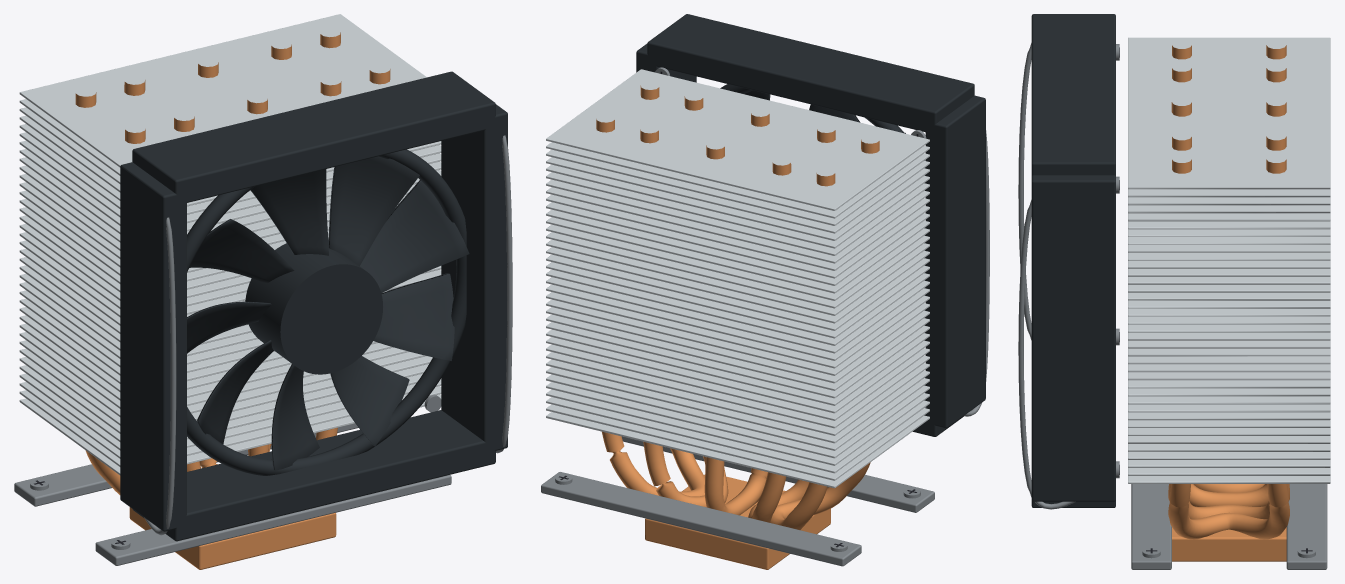
Rendered from cpu-cooler.glb.
3 views of the same model, side by side, from view 1: azimuth 30°, elevation 25°; view 2: azimuth 150°, elevation 25°; view 3: azimuth 270°, elevation 25° (orthographic). The views are drawn at different scales.
Visible parts, largest first — view 1: Fan frame (×4), Swept aerodynamic fan blade (×9), Aluminium fin 37, Fan motor, Fan circular shroud, Spring mounting crossbar (×2), Fan spring retention clip (×2), CPU contact plate, Continuous copper U heat pipe (×3), Aluminium fin 06, Aluminium fin 05, Aluminium fin 01 (+34 smaller); view 2: Fan frame (×3), Aluminium fin 37, Continuous copper U heat pipe (×5), Spring mounting crossbar (×2), CPU contact plate, Aluminium fin 00, Aluminium fin 06, Aluminium fin 01, Aluminium fin 17, Aluminium fin 28, Aluminium fin 31, Aluminium fin 04 (+31 smaller); view 3: Fan frame (×3), Aluminium fin 37, Continuous copper U heat pipe (×5), Spring mounting crossbar (×2), Fan spring retention clip (×2), CPU contact plate, Aluminium fin 14, Aluminium fin 16, Aluminium fin 17, Aluminium fin 18, Aluminium fin 19, Aluminium fin 20 (+31 smaller).
Part boxes in pixels (x1=…): Fan frame (×4): x1=120, y1=71, x2=507, y2=541; Swept aerodynamic fan blade (×9): x1=187, y1=156, x2=469, y2=470; Aluminium fin 37: x1=19, y1=14, x2=426, y2=167; Fan motor: x1=245, y1=243, x2=382, y2=374; Fan circular shroud: x1=187, y1=149, x2=466, y2=475; Spring mounting crossbar (×2): x1=14, y1=423, x2=451, y2=565; Fan spring retention clip (×2): x1=144, y1=135, x2=512, y2=535; CPU contact plate: x1=129, y1=507, x2=336, y2=569; Continuous copper U heat pipe (×3): x1=75, y1=44, x2=341, y2=494; Aluminium fin 06: x1=19, y1=348, x2=425, y2=425; Aluminium fin 05: x1=19, y1=356, x2=432, y2=433; Aluminium fin 01: x1=19, y1=386, x2=441, y2=466; Fan frame (×3): x1=636, y1=14, x2=985, y2=428; Aluminium fin 37: x1=546, y1=69, x2=929, y2=210; Continuous copper U heat pipe (×5): x1=596, y1=85, x2=879, y2=529; Spring mounting crossbar (×2): x1=541, y1=436, x2=934, y2=566; CPU contact plate: x1=645, y1=474, x2=830, y2=569; Aluminium fin 00: x1=546, y1=412, x2=929, y2=488; Aluminium fin 06: x1=546, y1=367, x2=929, y2=443; Aluminium fin 01: x1=546, y1=404, x2=929, y2=480; Aluminium fin 17: x1=546, y1=284, x2=929, y2=360; Aluminium fin 28: x1=546, y1=202, x2=929, y2=278; Aluminium fin 31: x1=546, y1=179, x2=929, y2=255; Aluminium fin 04: x1=546, y1=382, x2=929, y2=458; Fan frame (×3): x1=1031, y1=14, x2=1115, y2=507; Aluminium fin 37: x1=1128, y1=37, x2=1330, y2=189; Continuous copper U heat pipe (×5): x1=1168, y1=45, x2=1289, y2=539; Spring mounting crossbar (×2): x1=1131, y1=484, x2=1327, y2=569; Fan spring retention clip (×2): x1=1018, y1=43, x2=1075, y2=509; CPU contact plate: x1=1172, y1=527, x2=1286, y2=561; Aluminium fin 14: x1=1128, y1=364, x2=1330, y2=372; Aluminium fin 16: x1=1128, y1=348, x2=1330, y2=356; Aluminium fin 17: x1=1128, y1=340, x2=1330, y2=348; Aluminium fin 18: x1=1128, y1=332, x2=1330, y2=340; Aluminium fin 19: x1=1128, y1=324, x2=1330, y2=332; Aluminium fin 20: x1=1128, y1=316, x2=1330, y2=324.
Bounding box in the file's own units: 0.113 × 0.1445 × 0.0924.
2 materials, 2 textured.
